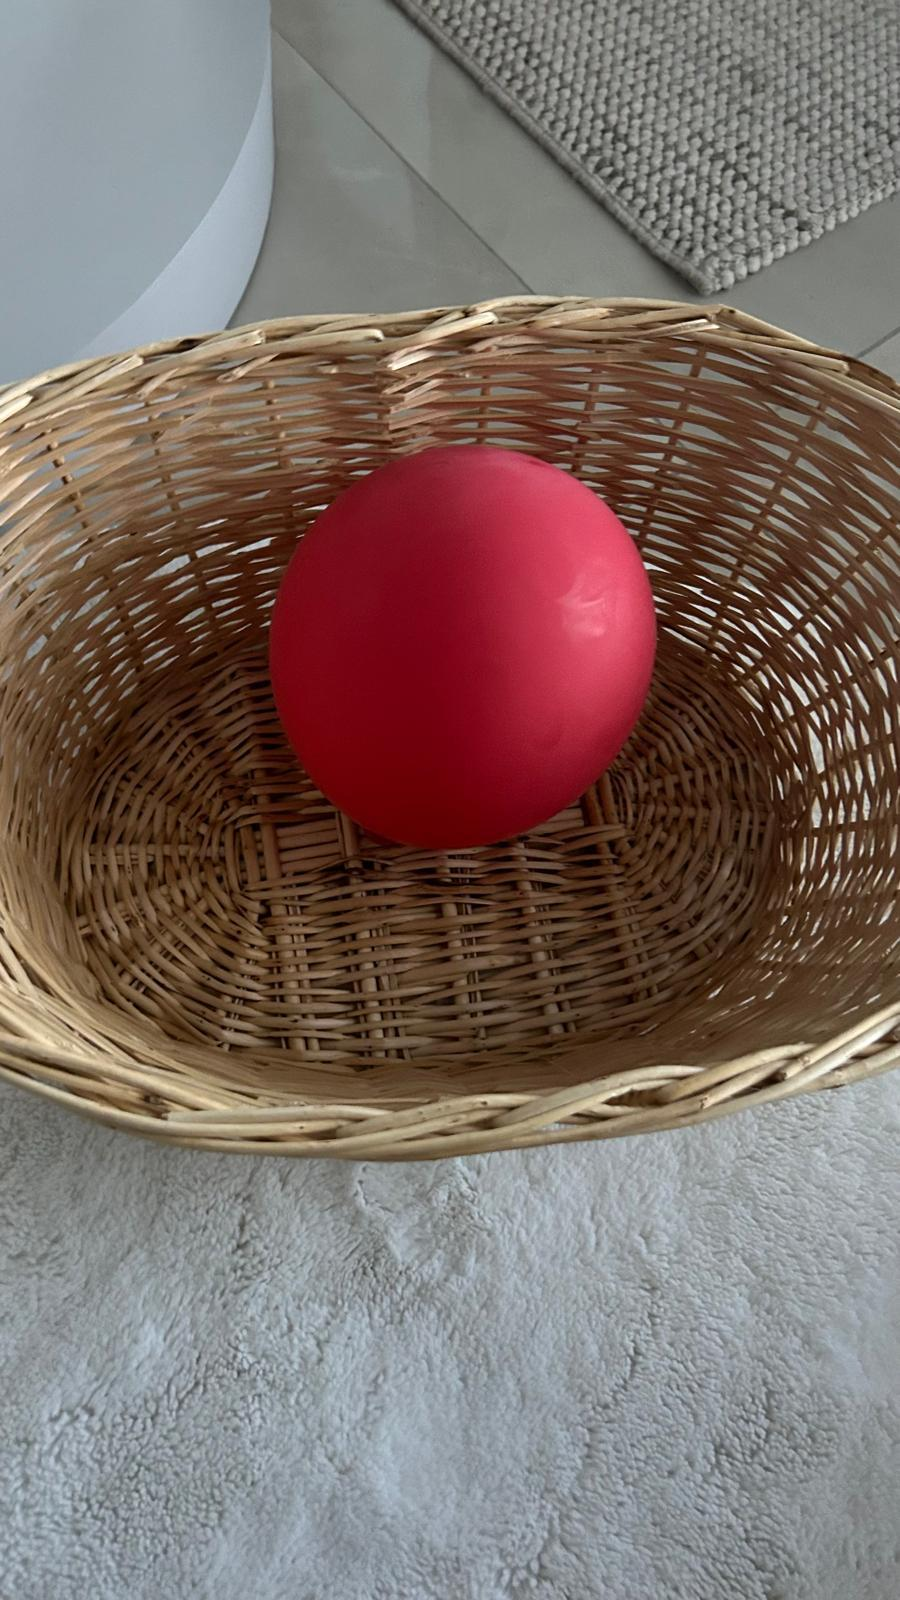red: (259, 431, 666, 852)
